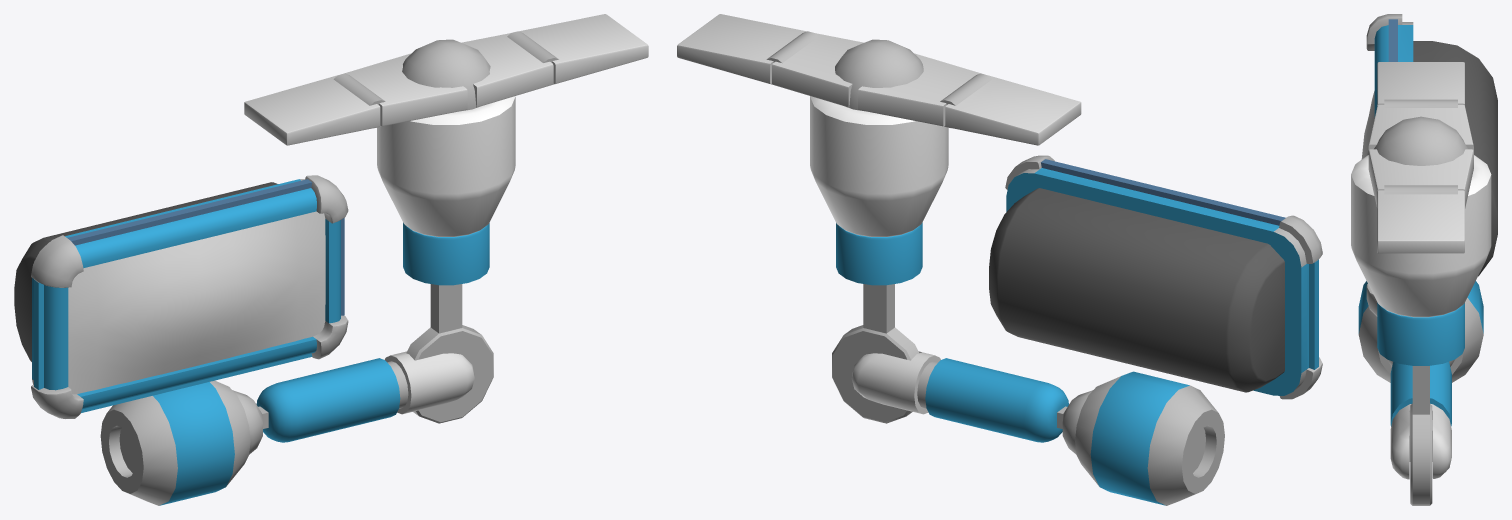
File: Repair_Station.fbx
3 renders of one model, left to right at view 1: azimuth 30°, elevation 25°; view 2: azimuth 150°, elevation 25°; view 3: azimuth 270°, elevation 25°, orthographic.
Parts seen in each view (by area): view 1: Screen, LowerArm.R, Body, UpperArm.R, Finger02, Finger01, Finger04, Finger03, Hand.R; view 2: Screen, LowerArm.R, Body, UpperArm.R, Finger02, Finger01, Finger04, Finger03, Hand.R; view 3: LowerArm.R, Screen, Finger01, UpperArm.R, Finger02, Hand.R, Body, Finger03, Finger04.
Part boxes in pixels (x1,y1,x2,y2): Screen: [14, 175, 348, 418]; LowerArm.R: [377, 96, 515, 423]; Body: [100, 380, 250, 505]; UpperArm.R: [232, 351, 474, 454]; Finger02: [244, 73, 385, 145]; Finger01: [507, 14, 648, 84]; Finger04: [343, 53, 467, 126]; Finger03: [462, 33, 553, 107]; Hand.R: [402, 39, 490, 111]; Screen: [989, 155, 1322, 399]; LowerArm.R: [810, 96, 948, 423]; Body: [1075, 371, 1224, 505]; UpperArm.R: [851, 351, 1092, 454]; Finger02: [940, 73, 1081, 145]; Finger01: [677, 14, 818, 84]; Finger04: [858, 53, 983, 126]; Finger03: [772, 33, 863, 107]; Hand.R: [835, 39, 923, 111]; LowerArm.R: [1351, 155, 1491, 505]; Screen: [1361, 14, 1497, 316]; Finger01: [1377, 185, 1464, 253]; UpperArm.R: [1387, 359, 1455, 479]; Finger02: [1377, 62, 1464, 107]; Hand.R: [1374, 116, 1468, 165]; Body: [1358, 281, 1483, 382]; Finger03: [1368, 149, 1473, 208]; Finger04: [1368, 104, 1473, 150].
Bounding box in the file's own units: 77.58 × 47.07 × 16.08.
